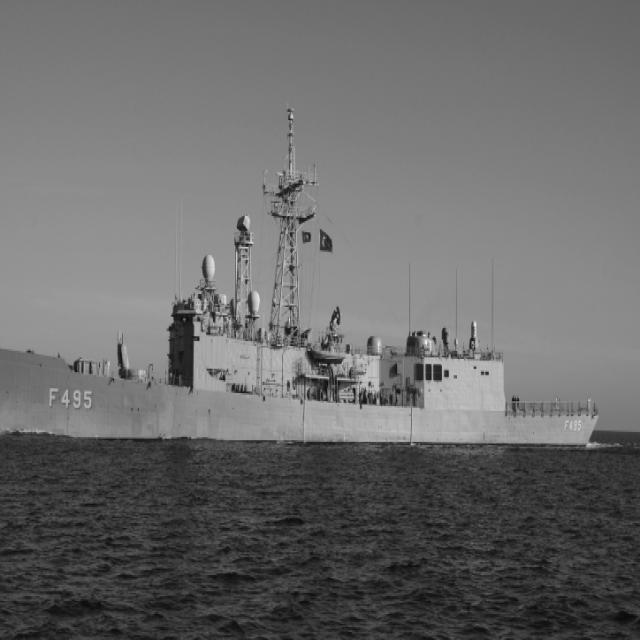Fragata: (1, 100, 601, 453)
